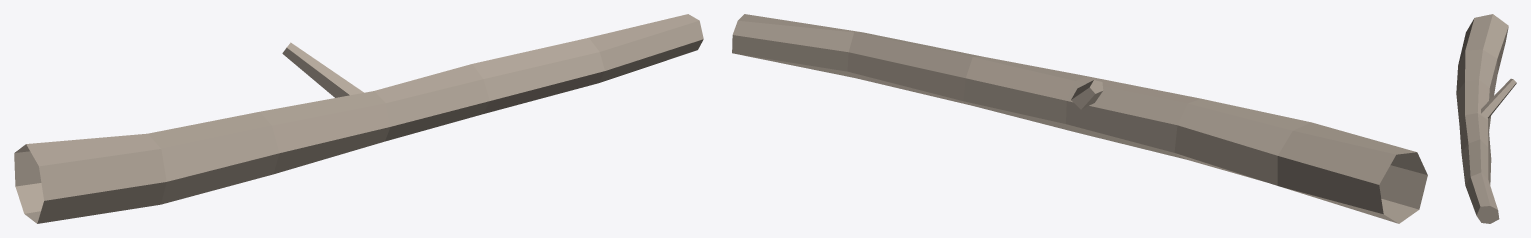
The model's file is Blender_Driftwood_2.glb.
3 views of the same model, side by side, from view 1: azimuth 30°, elevation 25°; view 2: azimuth 150°, elevation 25°; view 3: azimuth 270°, elevation 25° (orthographic). The views are drawn at different scales.
Parts seen in each view (by area): view 1: Blender_Driftwood_2; view 2: Blender_Driftwood_2; view 3: Blender_Driftwood_2.
Part boxes in pixels (bbox=[...]): Blender_Driftwood_2: bbox=[14, 14, 703, 223]; Blender_Driftwood_2: bbox=[732, 14, 1427, 223]; Blender_Driftwood_2: bbox=[1456, 14, 1516, 223].
Bounding box in the file's own units: 3.03 × 0.3838 × 0.4334.
